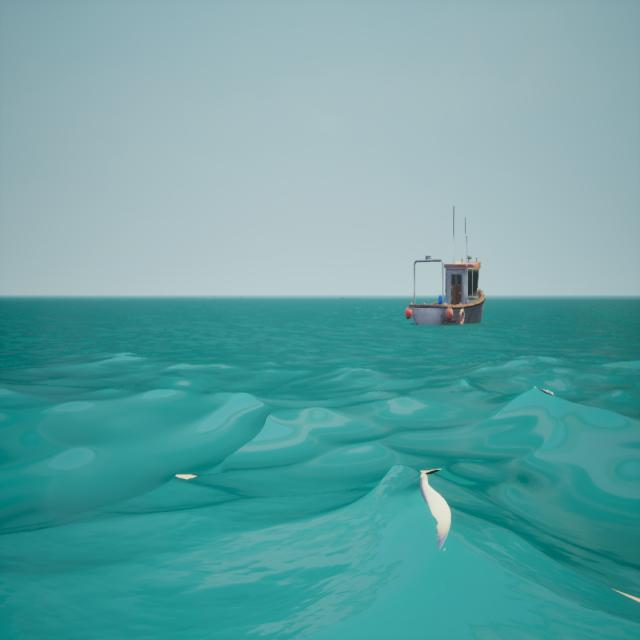ship: (395, 192, 494, 344)
